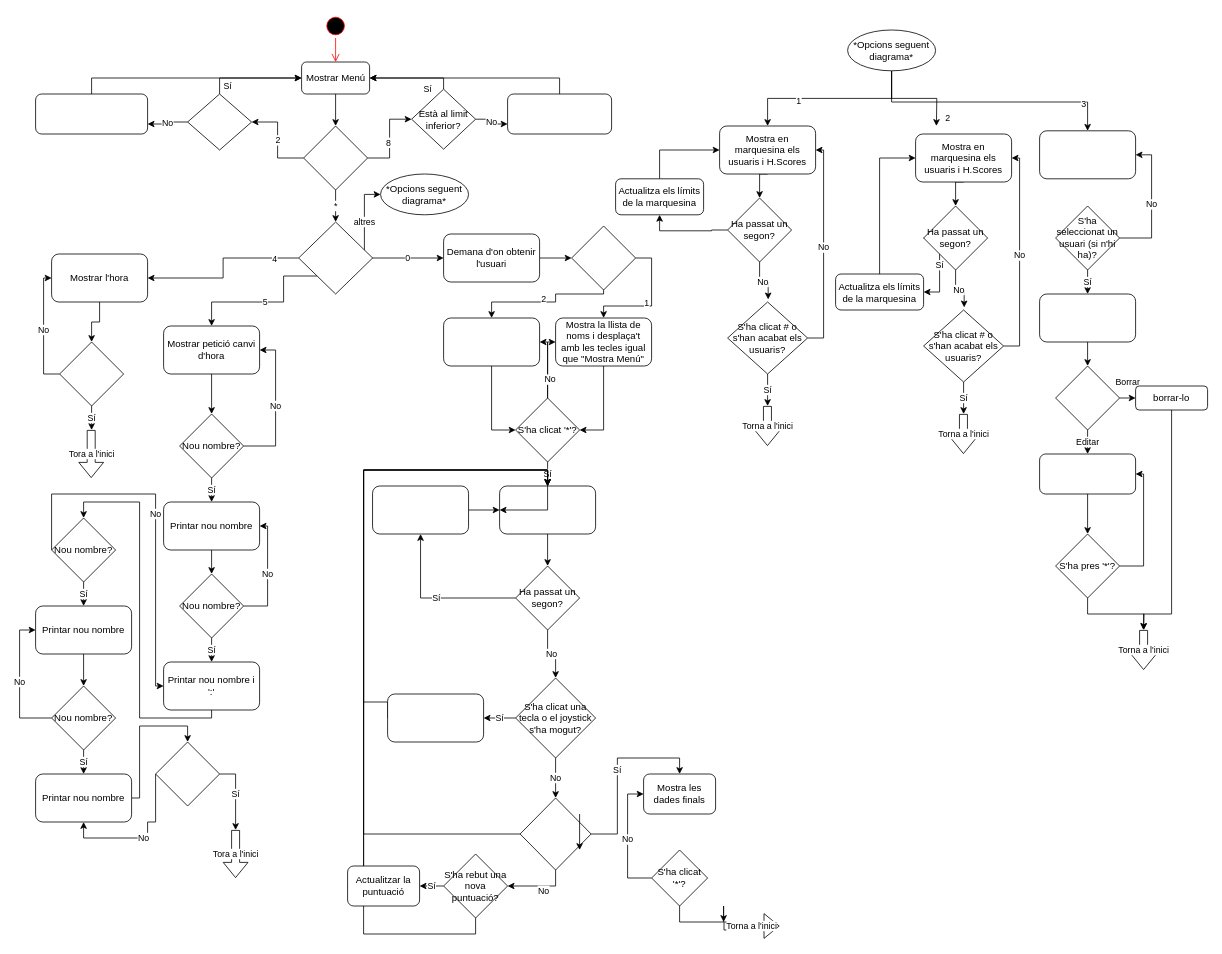
The diagram is 1222 pixels wide and 954 high, and some of its shapes have lost their labels. Here are the shapes that lost their labels. From the top down, the box of each, then its label:
(35, 93, 148, 134): Desplaçar menú amunt opció actual ++
(187, 93, 252, 150): Està al limit superior?
(507, 93, 612, 134): Desplaçar menú avall opcio actual --
(303, 125, 368, 190): Es clica una tecla
(1039, 130, 1136, 179): Mostra els usuaris com "Mostra Menú"
(298, 221, 373, 294): Quan val l'opció actual?
(571, 225, 636, 290): guardat (1) o nou (2) ?
(1039, 293, 1136, 342): Mostra editar o borrar
(443, 317, 540, 366): Demana el nom amb el sistema SMS
(59, 341, 124, 406): Es clica #?
(1055, 365, 1120, 430): borrar o editar?
(1039, 453, 1136, 494): Demana un nom nou
(372, 485, 469, 534): Actualitza l'hora a pantall i al joc
(499, 485, 596, 534): Mostra les dades del jopc
(387, 693, 484, 742): Envia la posició (tecla o joystick interpretat igual) per la SIO
(155, 741, 220, 806): Es clica *?
(519, 797, 591, 870): S'ha rebut la senyal de game over?
